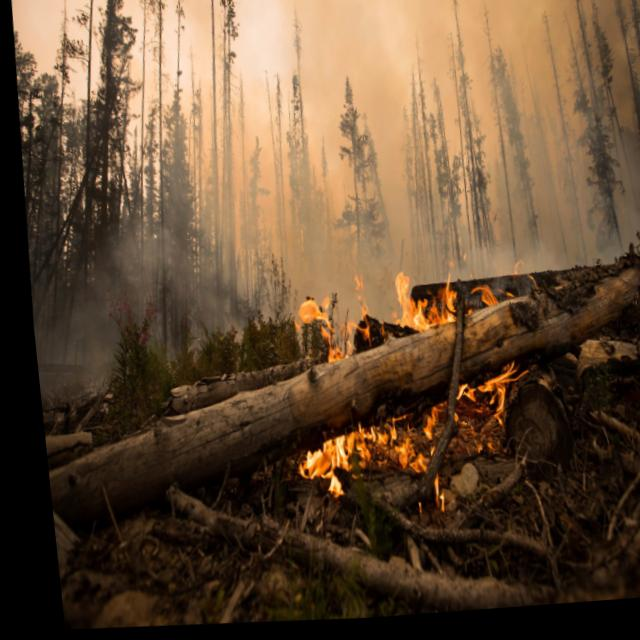Fire: (264, 267, 588, 520)
